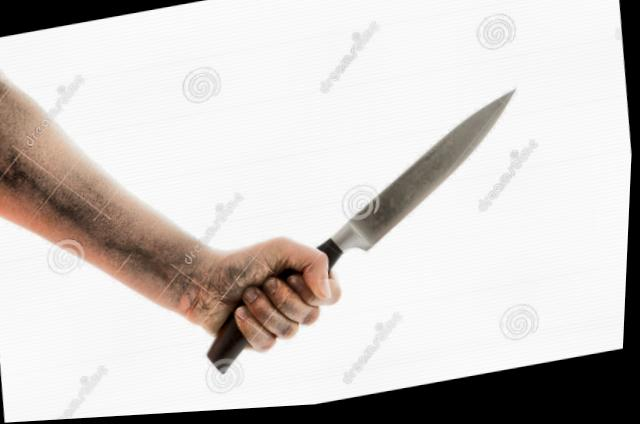knife: (232, 88, 550, 340)
